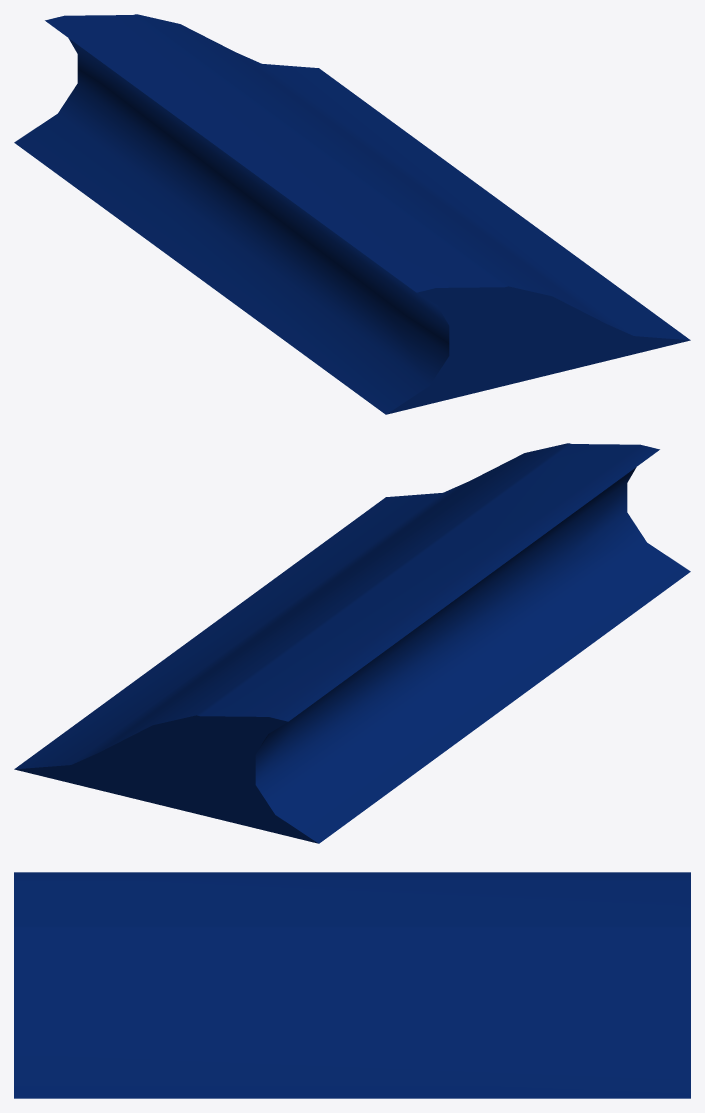
Rendered from wave.obj.
3 renders of one model, top to bottom at view 1: azimuth 30°, elevation 25°; view 2: azimuth 150°, elevation 25°; view 3: azimuth 270°, elevation 25°, orthographic. The views are drawn at different scales.
Visible parts, largest first — view 1: Tsunamiwave1; view 2: Tsunamiwave1; view 3: Tsunamiwave1.
Boxes of the visible parts, box(x1,y1,x2,y2) form: Tsunamiwave1: box(14, 14, 690, 414); Tsunamiwave1: box(14, 443, 690, 843); Tsunamiwave1: box(14, 872, 690, 1098).
Size of the model in its own units: 20.06 by 7.2 by 42.35.
